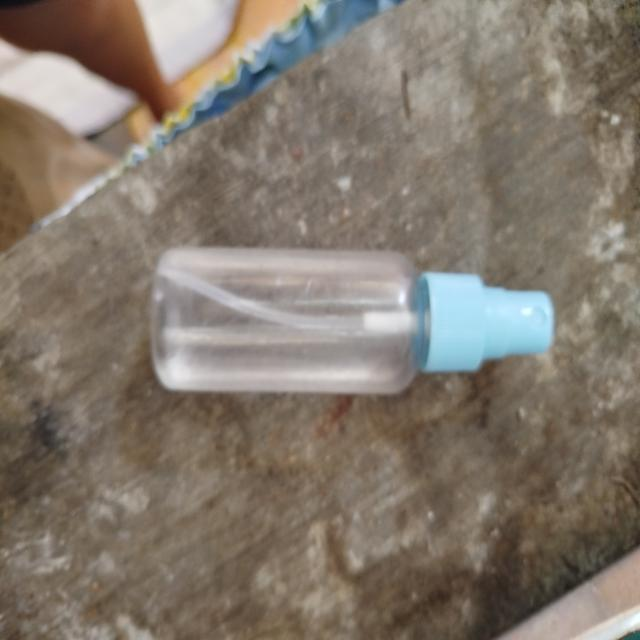plastic: (138, 224, 570, 412)
